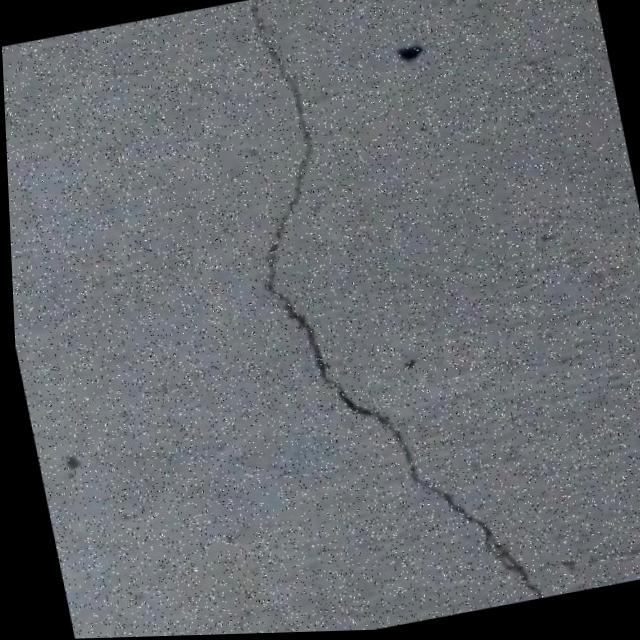Crack: (198, 0, 556, 635)
